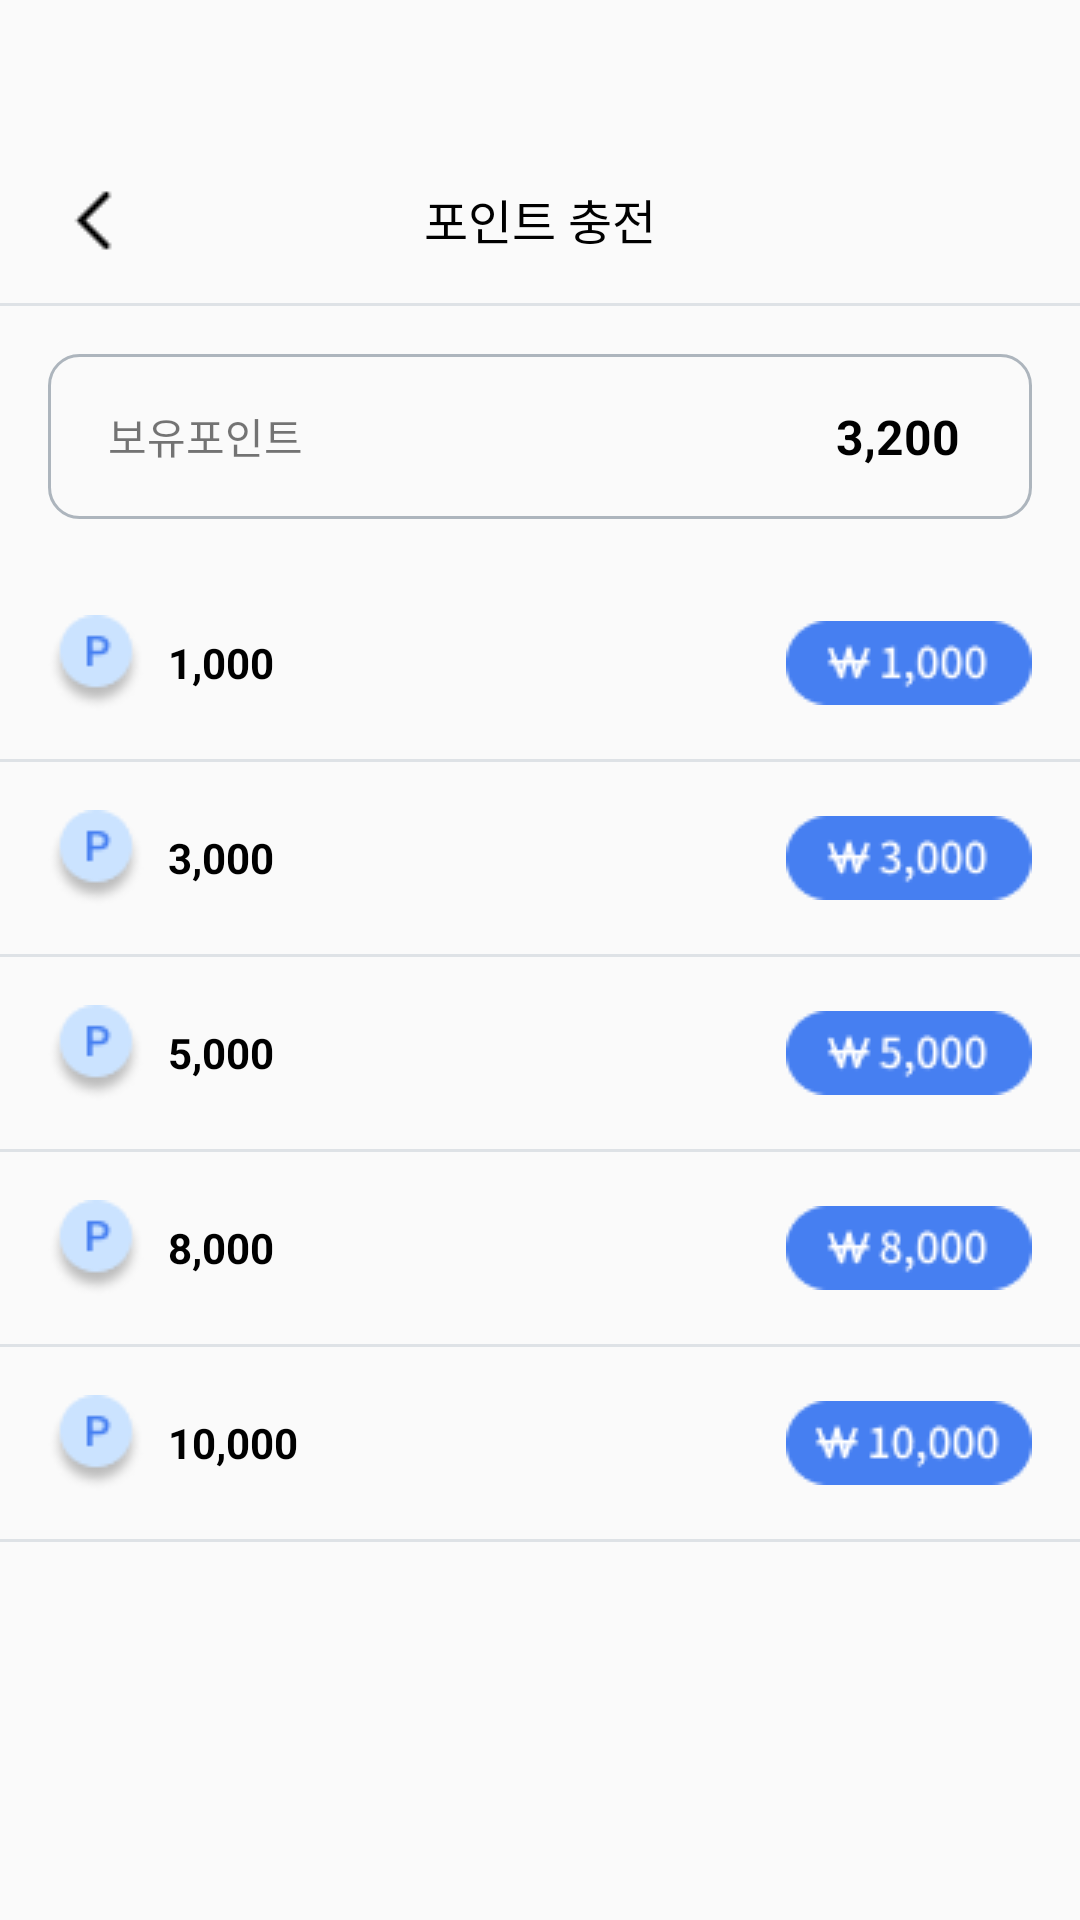

Where to tap for icons on this 1080*1920 app screen, as point (x, y):
chargepoing chargepoint: point (96, 657), point (96, 852), point (96, 1047), point (96, 1242), point (96, 1437)
